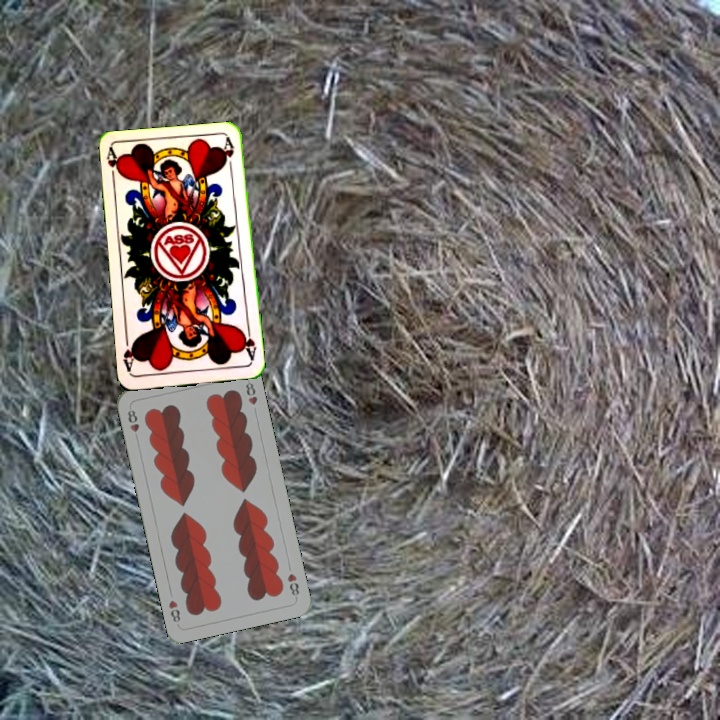H8: (124, 406, 142, 443), (283, 569, 302, 601)
HA: (102, 146, 124, 186), (238, 324, 259, 364)
